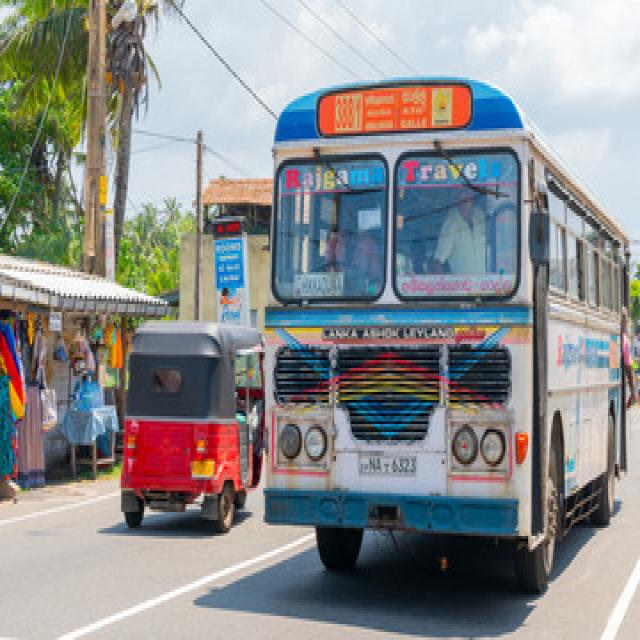bus: (265, 77, 628, 592)
three wheeler: (121, 323, 263, 531)
